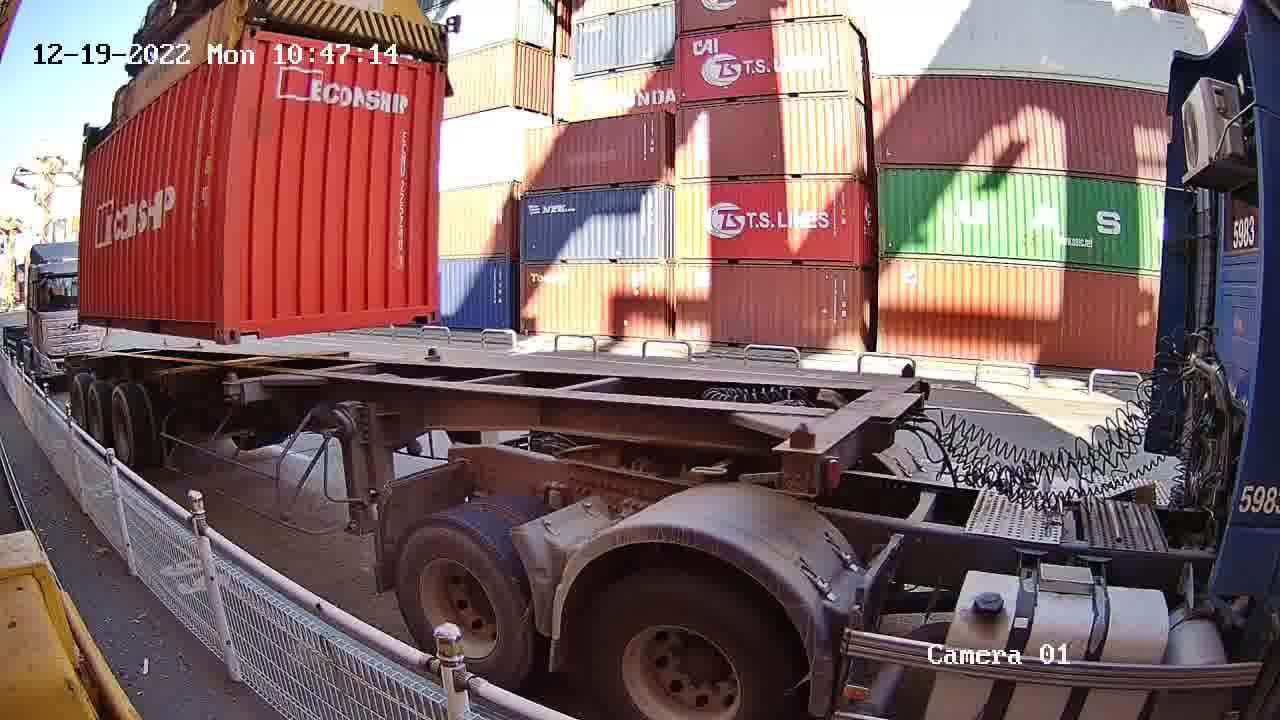Chassis: (227, 354, 439, 399)
Cone: (221, 371, 244, 402), (422, 348, 444, 361)
Hole_L: (223, 306, 270, 344)
Hole_R: (406, 296, 441, 327), (197, 311, 224, 343)
Tire: (570, 574, 788, 717), (398, 525, 517, 670), (109, 391, 144, 463), (88, 390, 105, 442), (70, 380, 84, 422)
